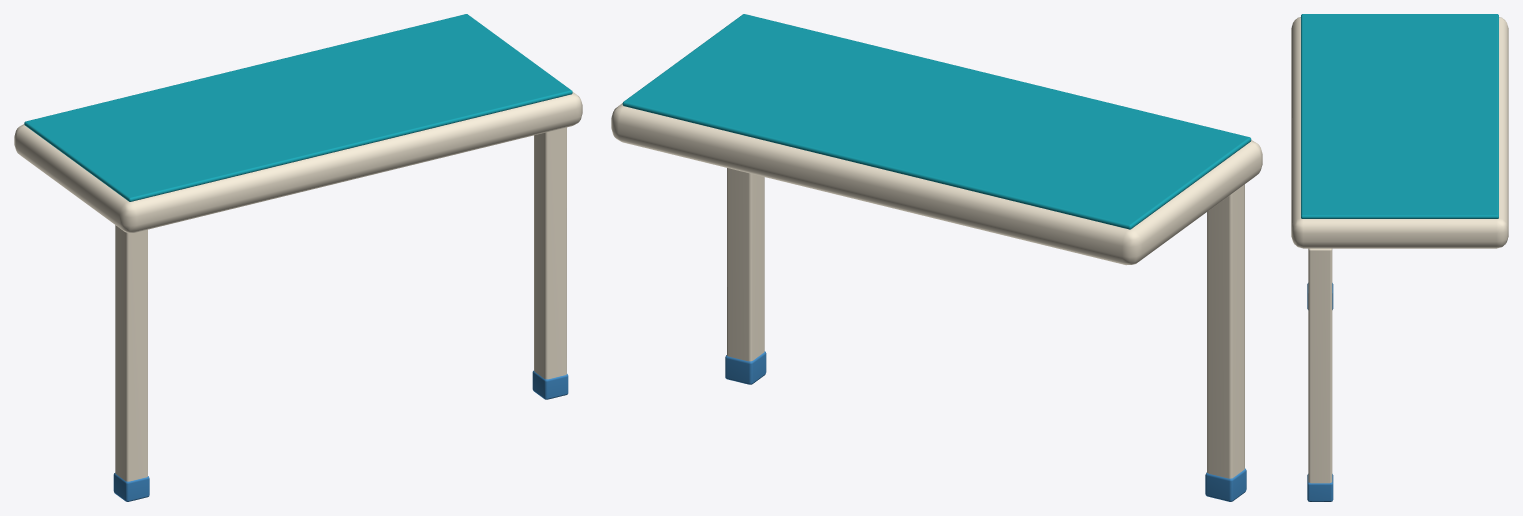
The model's file is Entrance_Canopy.glb.
The picture shows the model from 3 angles, left to right: view 1: azimuth 30°, elevation 25°; view 2: azimuth 150°, elevation 25°; view 3: azimuth 270°, elevation 25°; orthographic projection. The views are drawn at different scales.
Visible parts, largest first — view 1: Entrance_Canopy__CRNA_Shared_Matte_Atlas; view 2: Entrance_Canopy__CRNA_Shared_Matte_Atlas; view 3: Entrance_Canopy__CRNA_Shared_Matte_Atlas.
Part boxes in pixels (x1,y1,x2,y2): Entrance_Canopy__CRNA_Shared_Matte_Atlas: (14, 14, 582, 501); Entrance_Canopy__CRNA_Shared_Matte_Atlas: (611, 14, 1262, 501); Entrance_Canopy__CRNA_Shared_Matte_Atlas: (1291, 14, 1508, 501).
Bounding box in the file's own units: 5 × 3.18 × 2.18.
Materials: 1 (1 with a texture image).
